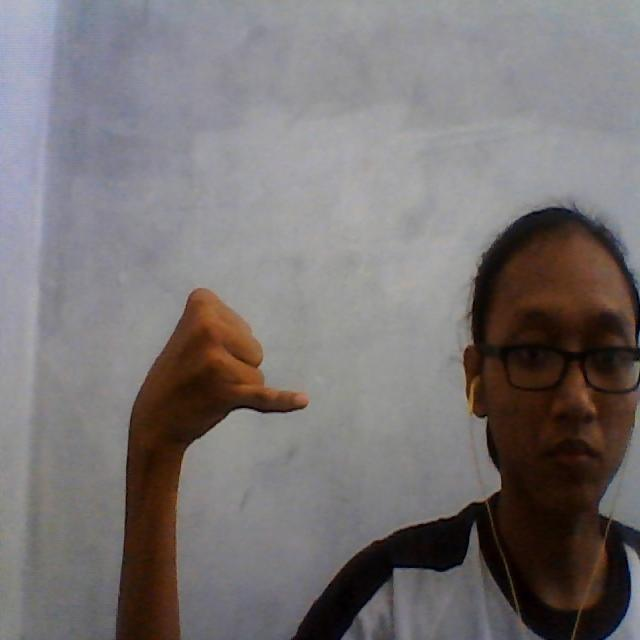J: (116, 256, 336, 454)
